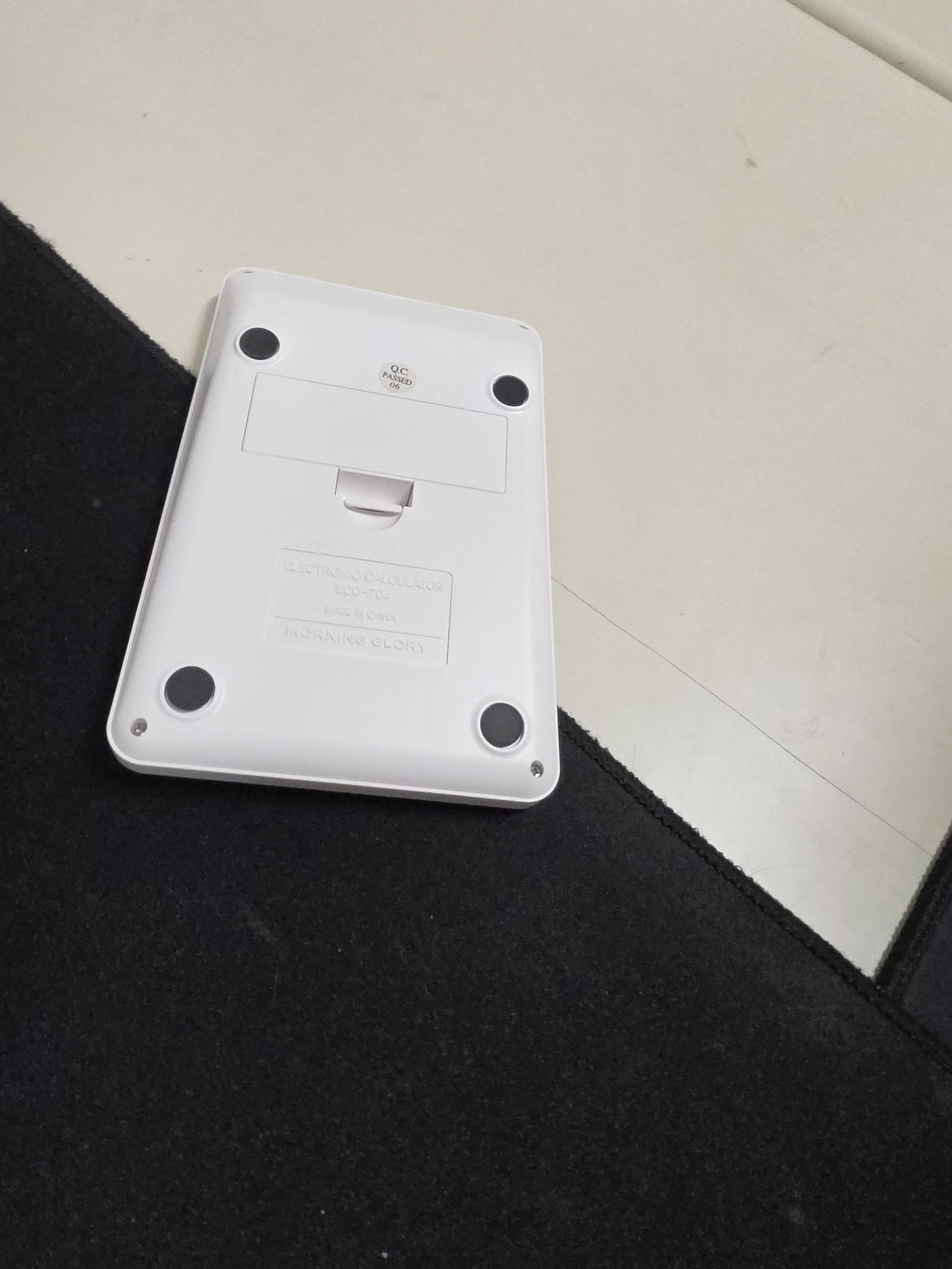calculator: (106, 266, 561, 809)
